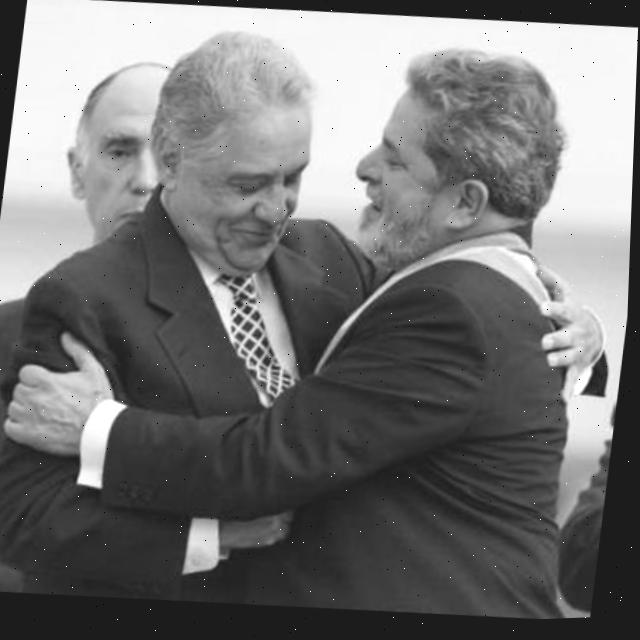face: (140, 58, 323, 286), (310, 70, 461, 297), (52, 58, 170, 239)
